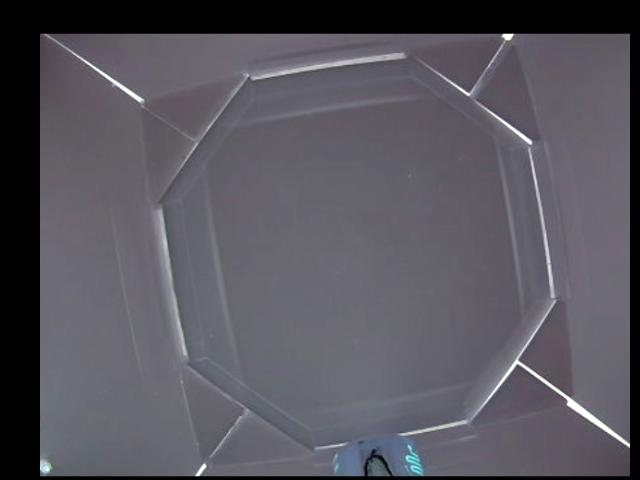Bottle: (332, 433, 422, 476)
